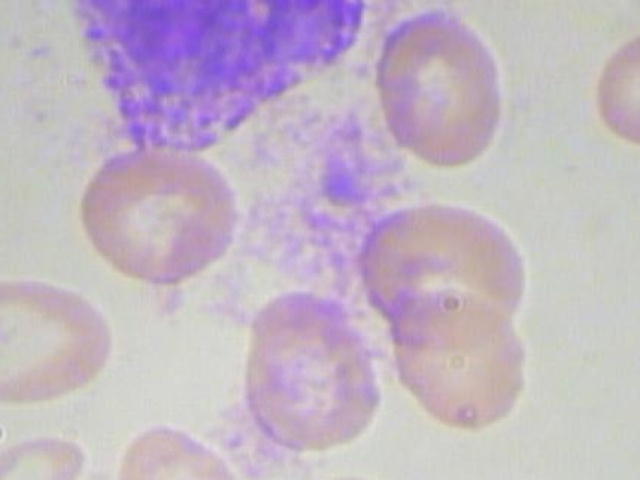RBC: (70, 141, 259, 286), (231, 282, 381, 454), (371, 10, 517, 170), (386, 279, 532, 439), (0, 266, 120, 415), (113, 412, 247, 480), (585, 14, 640, 154)
